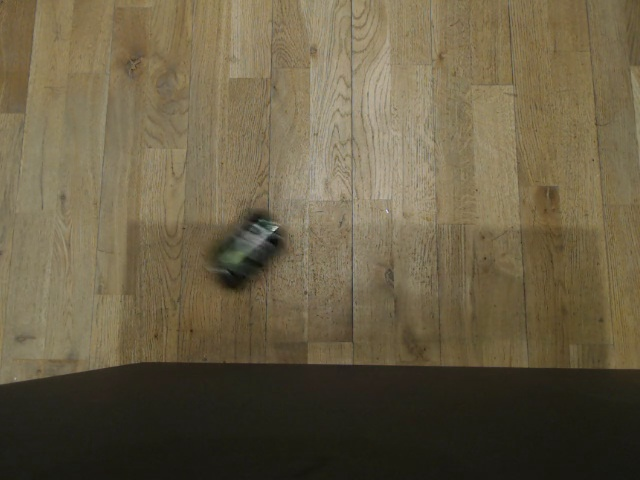beer: (203, 205, 289, 292)
